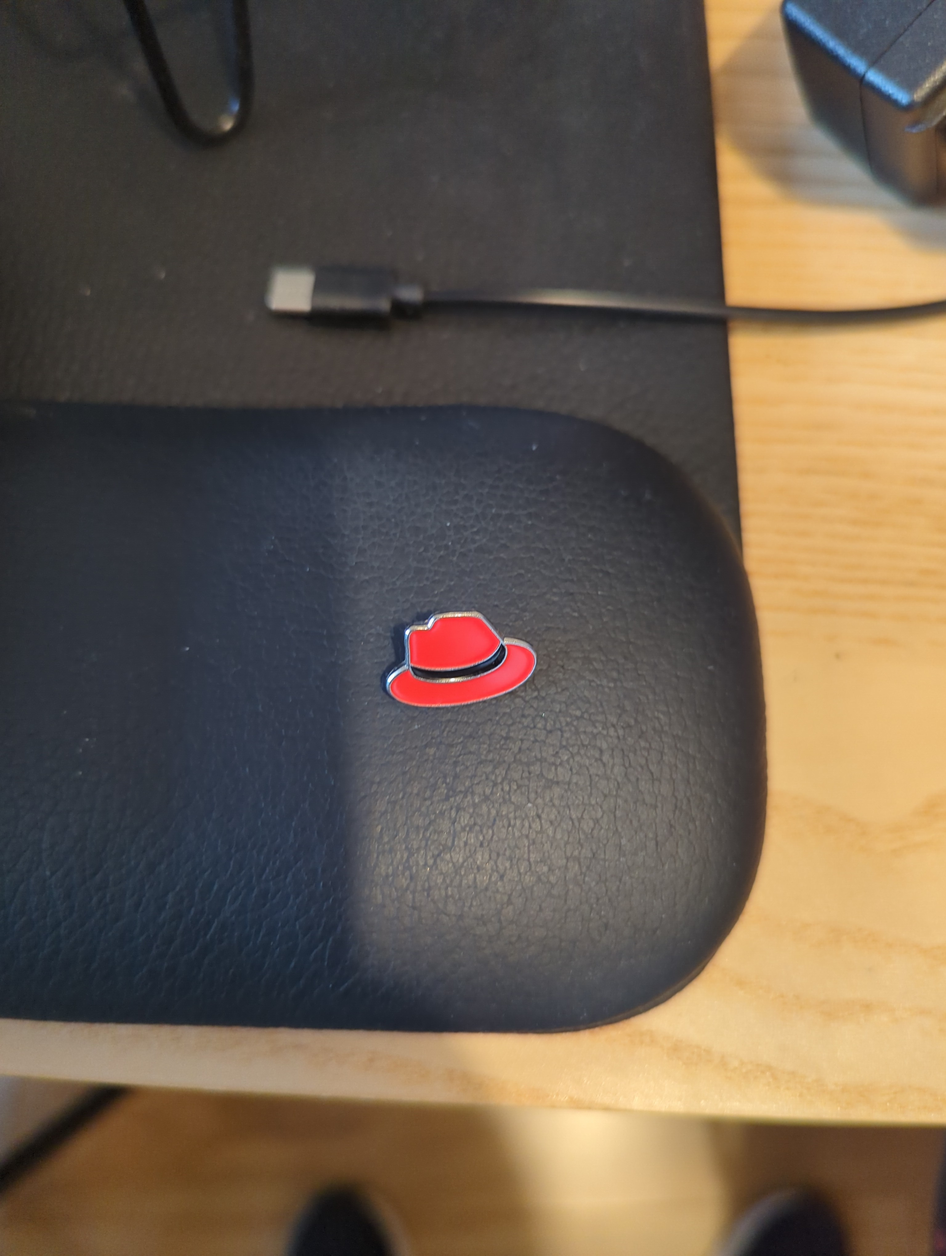Red-Hat: (308, 527, 702, 815)
